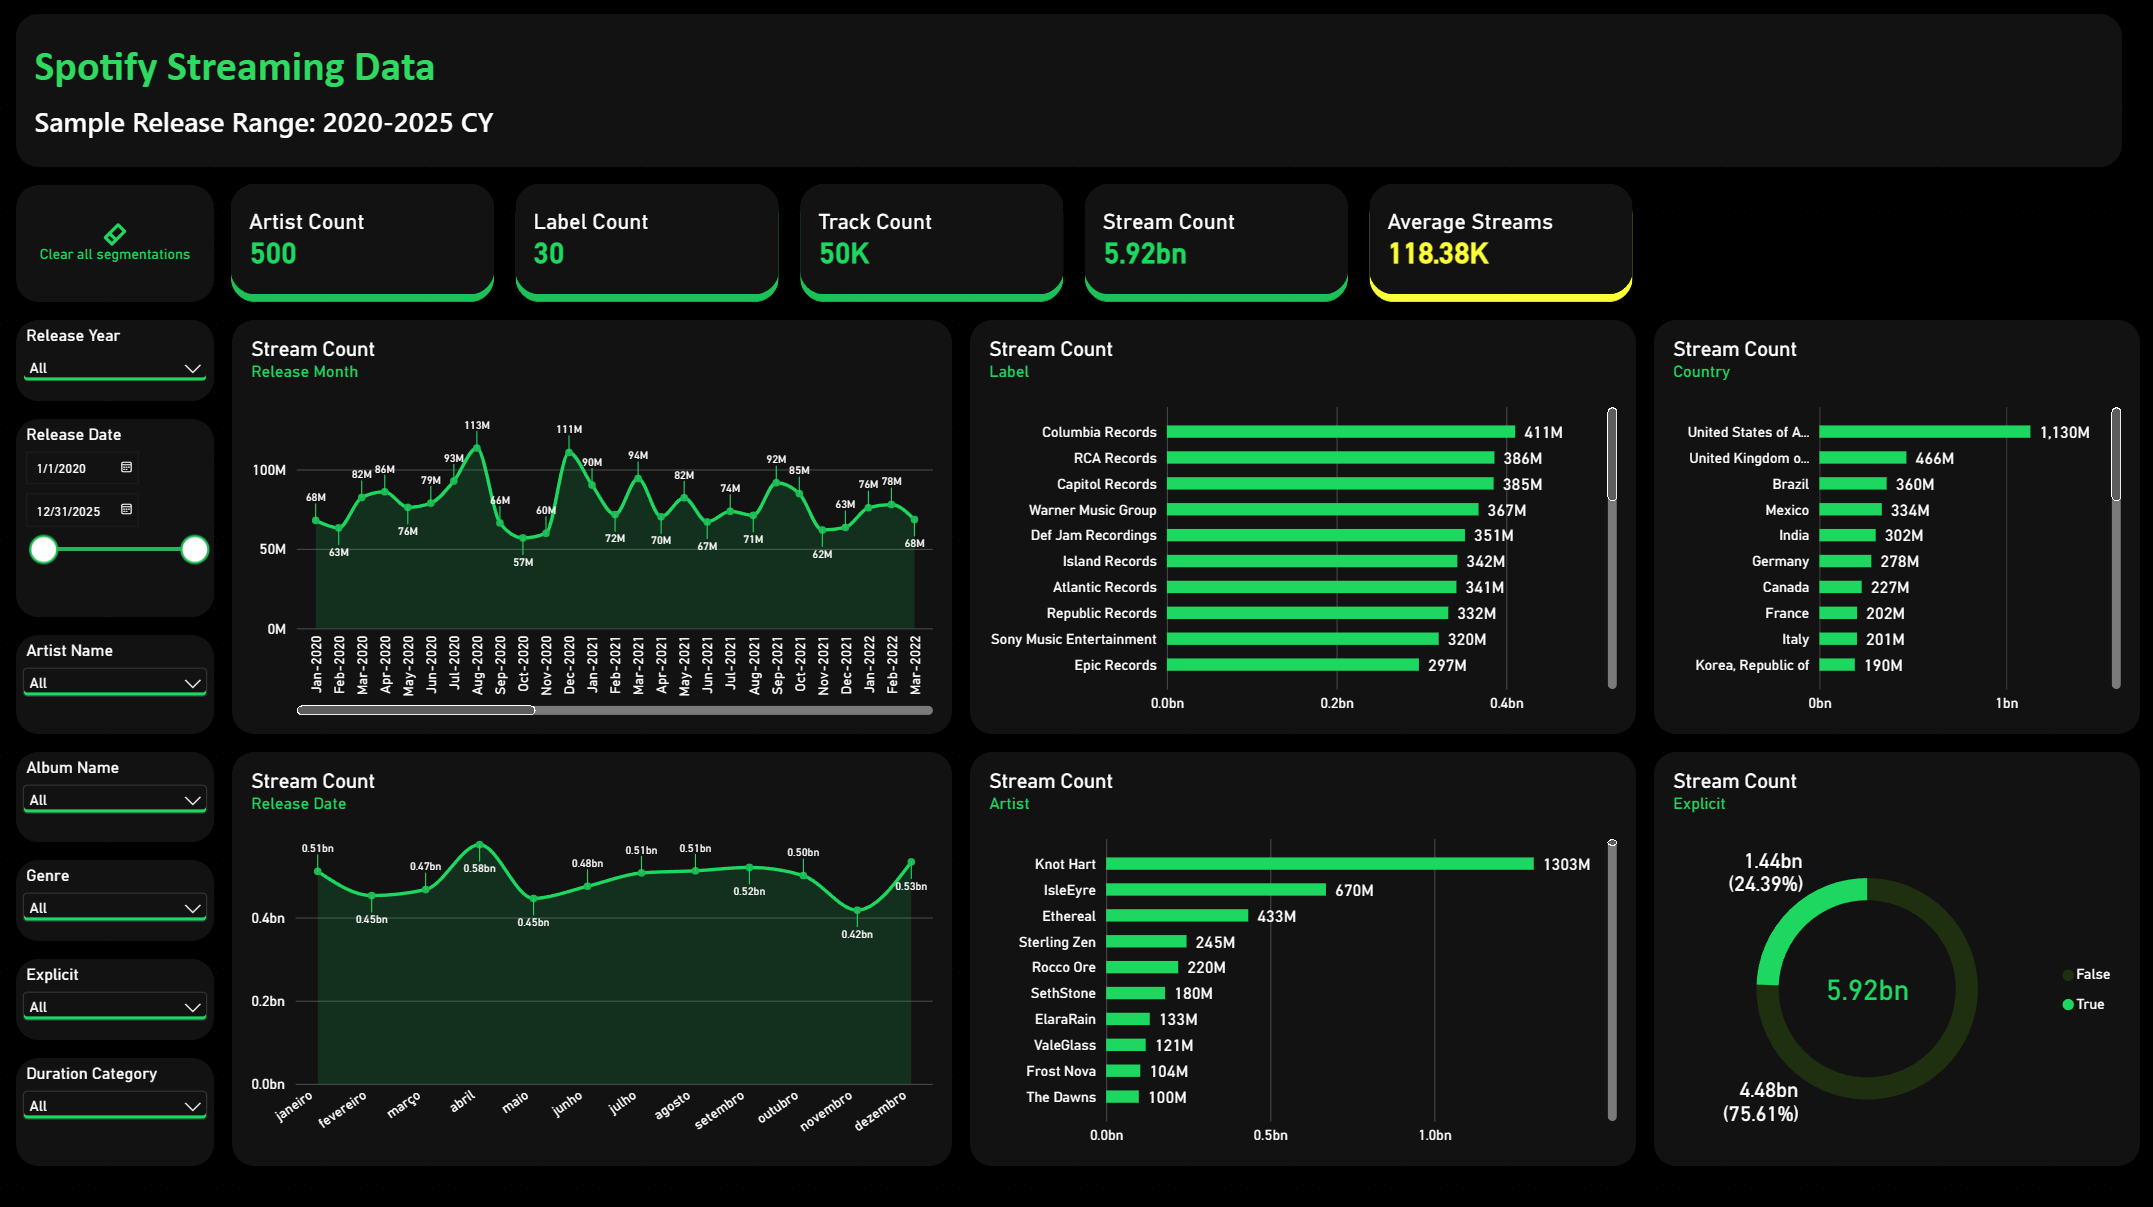

What the dashboard file says about the page in this screenshot:
{"tool":"powerbi","page":{"name":"Popularity Summary","canvas":[1920,1080],"ordinal":1},"visuals":[{"type":"cardVisual","fields":{"Data":["Count(Spotify_Data.artist_name)","Count(Spotify_Data.label)","Count(Spotify_Data.track_id)","Sum(Spotify_Data.stream_count)","Avg(Spotify_Data.stream_count)"]},"box":[200,160,1264,112],"z":0},{"type":"textbox","box":[16,16,1872,136],"z":1000},{"type":"lineChart","title":"Stream Count","fields":{"Category":["Spotify_Data.release_monthyear"],"Y":["Sum(Spotify_Data.stream_count)"]},"box":[208,288,640,368],"z":2000},{"type":"clusteredBarChart","title":"Stream Count","fields":{"Category":["Spotify_Data.label"],"Y":["Sum(Spotify_Data.stream_count)"]},"box":[864,288,592,368],"z":3000},{"type":"barChart","title":"Stream Count","fields":{"Category":["Country_Names.Country Name"],"Y":["Sum(Spotify_Data.stream_count)"]},"box":[1472,288,432,368],"z":4000},{"type":"lineChart","title":"Stream Count","fields":{"Category":["Spotify_Data.release_monthyear.Variation.Hierarquia de datas.Ano","Spotify_Data.release_monthyear.Variation.Hierarquia de datas.Trimestre","Spotify_Data.release_monthyear.Variation.Hierarquia de datas.Mês"],"Y":["Sum(Spotify_Data.stream_count)"]},"box":[208,672,640,368],"z":5000},{"type":"clusteredBarChart","title":"Stream Count","fields":{"Category":["Spotify_Data.artist_name"],"Y":["Sum(Spotify_Data.stream_count)"]},"box":[864,672,592,368],"z":6000},{"type":"donutChart","title":"Stream Count","fields":{"Category":["Spotify_Data.is_explicit_bool"],"Y":["Sum(Spotify_Data.stream_count)"]},"box":[1472,672,432,368],"z":7000},{"type":"slicer","fields":{"Values":["Spotify_Data.release_date"]},"box":[16,376,176,176],"z":8000},{"type":"slicer","fields":{"Values":["Spotify_Data.artist_name"]},"box":[16,568,176,88],"z":9000},{"type":"slicer","fields":{"Values":["Spotify_Data.album_name"]},"box":[16,672,176,80],"z":10000},{"type":"slicer","fields":{"Values":["Spotify_Data.genre"]},"box":[16,768,176,72],"z":11000},{"type":"slicer","fields":{"Values":["Spotify_Data.explicit"]},"box":[16,856,176,72],"z":12000},{"type":"slicer","fields":{"Values":["Spotify_Data.Duration Category"]},"box":[16,944,176,96],"z":13000},{"type":"slicer","fields":{"Values":["Spotify_Data.release_year"]},"box":[16,288,176,72],"z":14000},{"type":"actionButton","box":[16,168,176,104],"z":15000}]}

Visuals, with their boxes in screenshot pixels (x1, y1, x2, y2), scaled from the page's 1920x1080 canvas onto the 2153x1207 screenshot:
cardVisual - Count(Spotify_Data.artist_name) x Count(Spotify_Data.label): 224,179,1642,304
textbox: 18,18,2117,170
"Stream Count" lineChart: 233,322,951,733
"Stream Count" clusteredBarChart: 969,322,1633,733
"Stream Count" barChart: 1651,322,2135,733
"Stream Count" lineChart: 233,751,951,1162
"Stream Count" clusteredBarChart: 969,751,1633,1162
"Stream Count" donutChart: 1651,751,2135,1162
slicer - Spotify_Data.release_date: 18,420,215,617
slicer - Spotify_Data.artist_name: 18,635,215,733
slicer - Spotify_Data.album_name: 18,751,215,840
slicer - Spotify_Data.genre: 18,858,215,939
slicer - Spotify_Data.explicit: 18,957,215,1037
slicer - Spotify_Data.Duration Category: 18,1055,215,1162
slicer - Spotify_Data.release_year: 18,322,215,402
actionButton: 18,188,215,304
